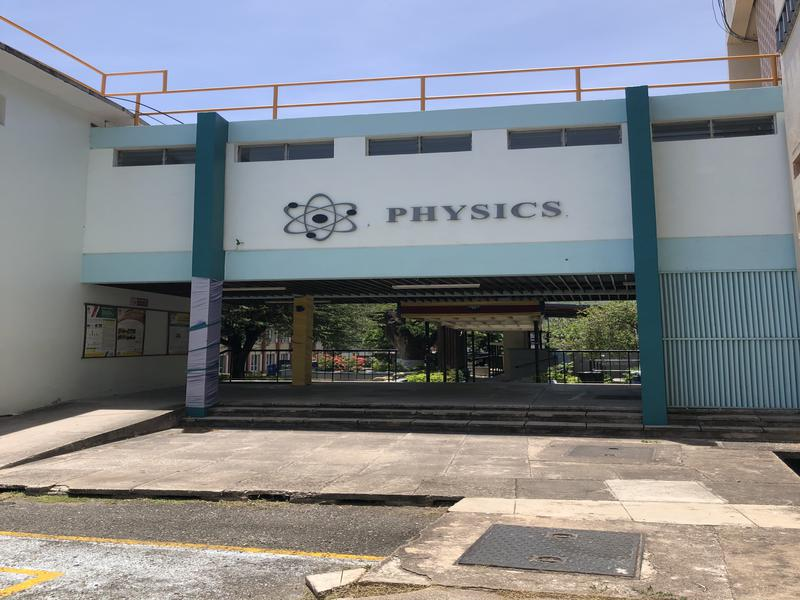18.0053657_-76.7491452_physicssign: (264, 186, 580, 238)
